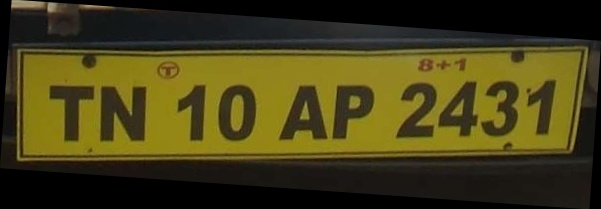character: (275, 83, 328, 141), (97, 83, 147, 141), (48, 82, 94, 142), (331, 81, 374, 139), (393, 81, 436, 137), (436, 79, 478, 135), (215, 83, 255, 141), (483, 79, 520, 136), (525, 78, 557, 137), (176, 83, 207, 143)
